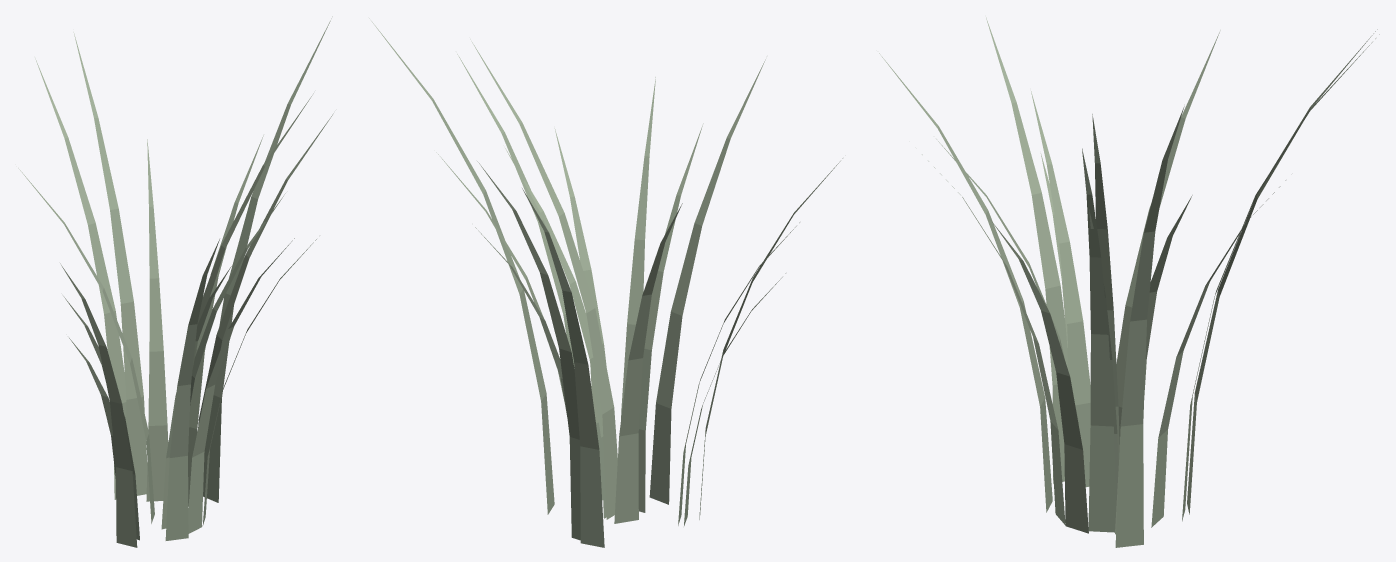
Rendered from sedge-clump.glb.
3 renders of one model, left to right at view 1: azimuth 30°, elevation 25°; view 2: azimuth 150°, elevation 25°; view 3: azimuth 270°, elevation 25°, orthographic. The views are drawn at different scales.
Parts seen in each view (by area): view 1: sedge-clump; view 2: sedge-clump; view 3: sedge-clump.
Boxes of the visible parts, x1=… form: sedge-clump: x1=18, y1=16, x2=333, y2=547; sedge-clump: x1=369, y1=18, x2=842, y2=547; sedge-clump: x1=879, y1=17, x2=1379, y2=547.
Bounding box in the file's own units: 0.4452 × 0.5166 × 0.4474.
